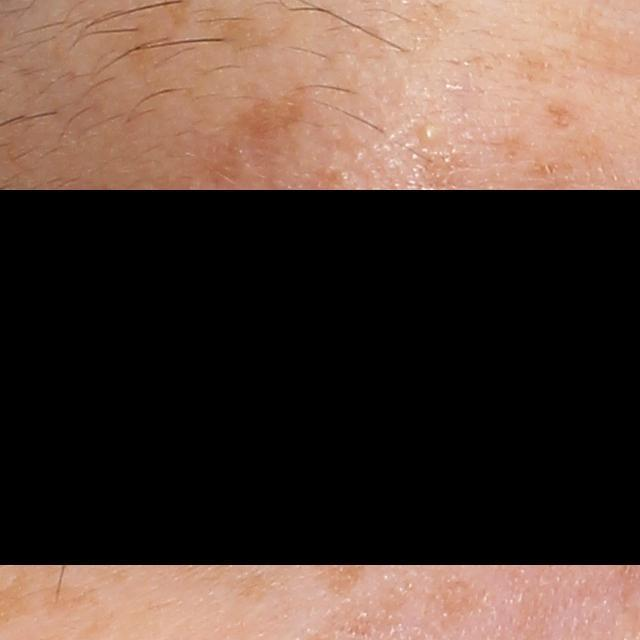comedo: (412, 120, 447, 152)
melasma: (14, 526, 112, 617), (169, 536, 276, 600), (480, 134, 579, 187), (226, 81, 311, 141), (213, 12, 293, 53), (312, 550, 369, 598), (417, 149, 467, 196), (517, 43, 557, 80), (543, 103, 579, 130)
